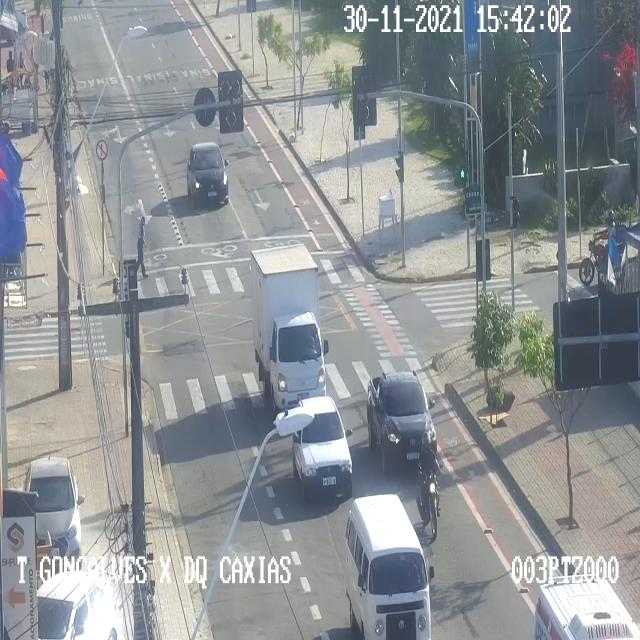Car: (346, 494, 434, 639), (529, 559, 640, 640), (367, 370, 437, 473), (291, 396, 353, 502), (25, 453, 84, 561), (38, 571, 117, 639), (186, 141, 230, 207)
Motorcycle: (580, 207, 630, 284), (416, 432, 442, 538)
Truck: (250, 243, 328, 416)
